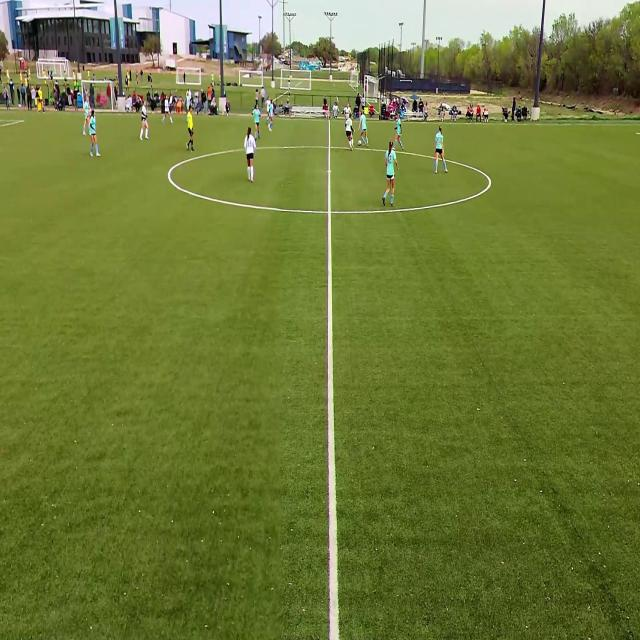ball: (358, 139, 362, 148)
team1: (383, 139, 398, 207), (434, 127, 447, 175), (88, 110, 100, 159), (360, 111, 370, 148), (84, 97, 93, 136), (396, 114, 405, 148), (255, 105, 263, 140), (269, 99, 275, 132)
team2: (244, 128, 257, 184), (140, 102, 149, 142), (162, 95, 174, 125), (346, 114, 355, 152), (264, 95, 270, 117), (344, 104, 352, 117)
